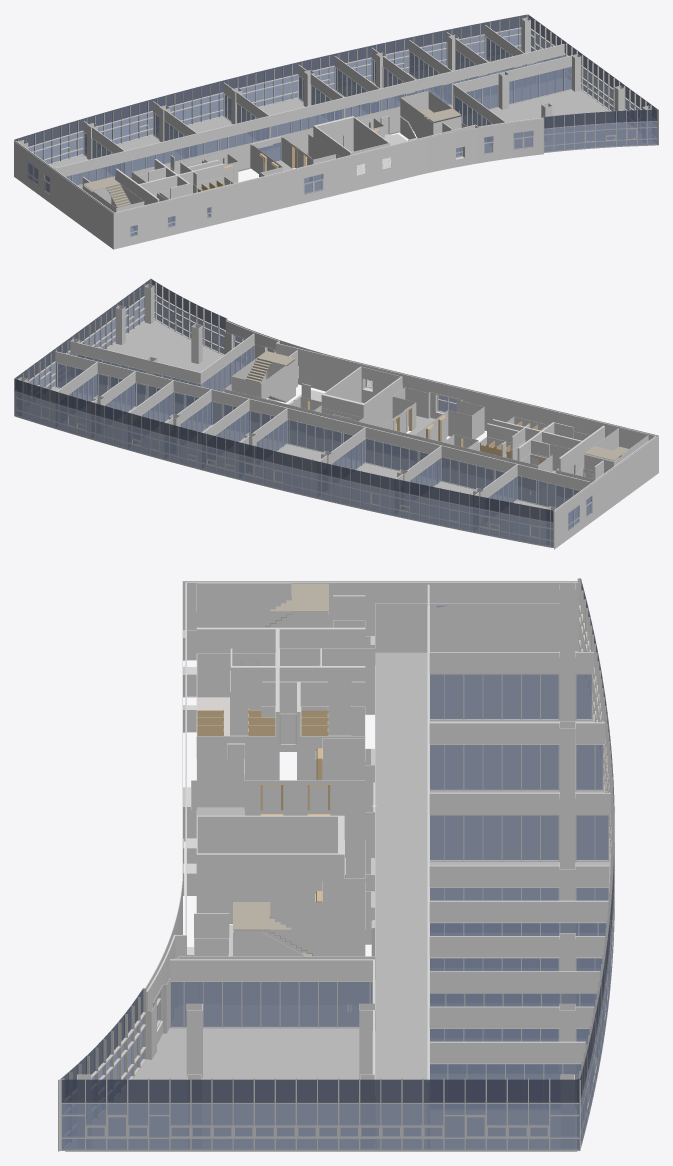
The picture shows the model from 3 angles, top to bottom: view 1: azimuth 30°, elevation 25°; view 2: azimuth 150°, elevation 25°; view 3: azimuth 270°, elevation 25°; orthographic projection. The views are drawn at different scales.
Visible parts, largest first — view 1: A8_10F_Wall, A8_10F_Window, A8_10F_outWall, A8_10F_Floor, A8_10F_Glass, A8_10F_Frame, A8_10F_Pillar, A8_10F_GlassDoor, A8_10F_Stairs, A8_10F_ELEV, A8_10F_AutomaticDoor; view 2: A8_10F_Wall, A8_10F_Window, A8_10F_Floor, A8_10F_Glass, A8_10F_outWall, A8_10F_Frame, A8_10F_Pillar, A8_10F_GlassDoor, A8_10F_Stairs, A8_10F_Door, A8_10F_ELEV; view 3: A8_10F_Wall, A8_10F_Floor, A8_10F_Window, A8_10F_Glass, A8_10F_Pillar, A8_10F_Frame, A8_10F_Stairs, A8_10F_Toilet, A8_10F_Door, A8_10F_outWall, A8_10F_ELEV, A8_10F_GlassDoor.
Part boxes in pixels (left/top/right/bottom): A8_10F_Wall: left=15, top=25, right=571, bottom=235; A8_10F_Window: left=14, top=14, right=658, bottom=237; A8_10F_outWall: left=14, top=118, right=543, bottom=249; A8_10F_Floor: left=50, top=55, right=654, bottom=191; A8_10F_Glass: left=66, top=37, right=571, bottom=185; A8_10F_Frame: left=65, top=36, right=571, bottom=184; A8_10F_Pillar: left=17, top=17, right=651, bottom=159; A8_10F_GlassDoor: left=107, top=62, right=535, bottom=197; A8_10F_Stairs: left=83, top=108, right=461, bottom=207; A8_10F_ELEV: left=224, top=129, right=379, bottom=182; A8_10F_AutomaticDoor: left=250, top=136, right=281, bottom=163; A8_10F_Wall: left=55, top=321, right=656, bottom=527; A8_10F_Window: left=14, top=278, right=591, bottom=547; A8_10F_Floor: left=22, top=320, right=567, bottom=547; A8_10F_Glass: left=56, top=346, right=579, bottom=508; A8_10F_outWall: left=227, top=320, right=658, bottom=549; A8_10F_Frame: left=55, top=344, right=580, bottom=530; A8_10F_Pillar: left=18, top=284, right=555, bottom=544; A8_10F_GlassDoor: left=89, top=374, right=563, bottom=503; A8_10F_Stairs: left=245, top=351, right=628, bottom=460; A8_10F_Door: left=267, top=369, right=593, bottom=494; A8_10F_ELEV: left=307, top=400, right=471, bottom=448; A8_10F_Wall: left=146, top=582, right=610, bottom=1100; A8_10F_Floor: left=65, top=651, right=610, bottom=1151; A8_10F_Window: left=58, top=578, right=614, bottom=1151; A8_10F_Glass: left=171, top=674, right=608, bottom=1079; A8_10F_Pillar: left=77, top=583, right=575, bottom=1147; A8_10F_Frame: left=170, top=606, right=609, bottom=1109; A8_10F_Stairs: left=233, top=583, right=328, bottom=956; A8_10F_Toilet: left=197, top=708, right=328, bottom=735; A8_10F_Door: left=199, top=636, right=374, bottom=1003; A8_10F_outWall: left=145, top=581, right=577, bottom=990; A8_10F_ELEV: left=260, top=748, right=330, bottom=902; A8_10F_GlassDoor: left=338, top=982, right=369, bottom=1026.
Bounding box in the file's own units: 61.96 × 4.3 × 29.02.
